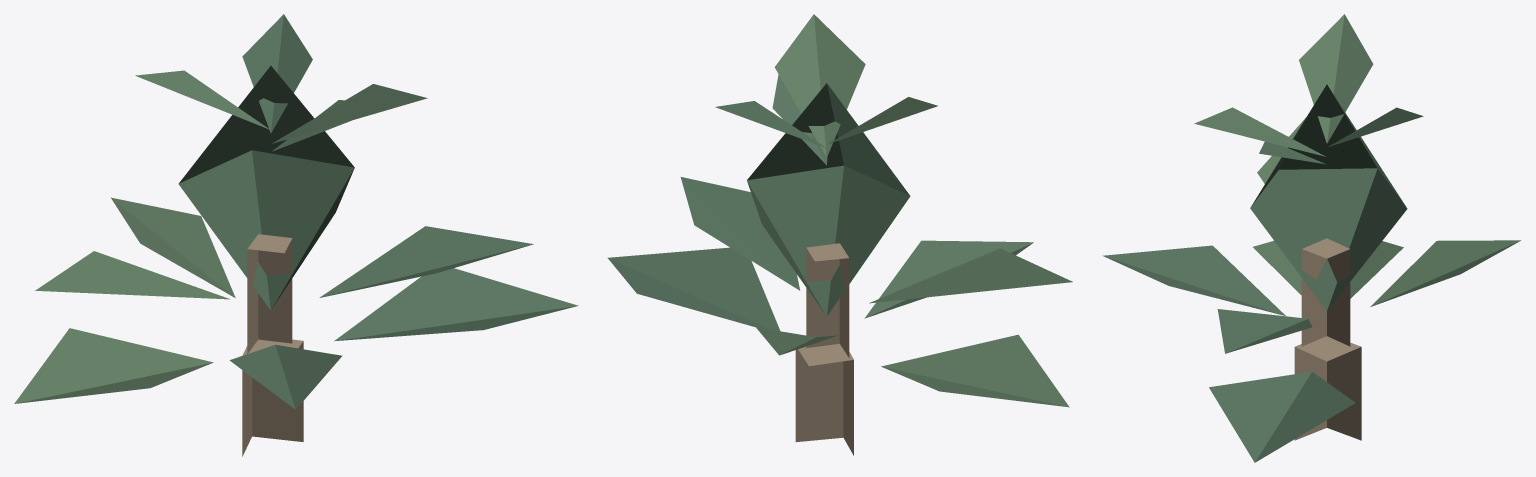
File: shu.lengshan@seedling__summer.glb
The picture shows the model from 3 angles, left to right: view 1: azimuth 30°, elevation 25°; view 2: azimuth 150°, elevation 25°; view 3: azimuth 270°, elevation 25°; orthographic projection. The views are drawn at different scales.
Visible parts, largest first — view 1: shu.lengshan@seedling__summer; view 2: shu.lengshan@seedling__summer; view 3: shu.lengshan@seedling__summer.
Boxes of the visible parts, box(x1,y1,x2,y2) form: shu.lengshan@seedling__summer: box(14, 14, 578, 456); shu.lengshan@seedling__summer: box(607, 14, 1072, 455); shu.lengshan@seedling__summer: box(1102, 14, 1520, 462).
Bounding box in the file's own units: 2.01 × 1.46 × 1.5.
